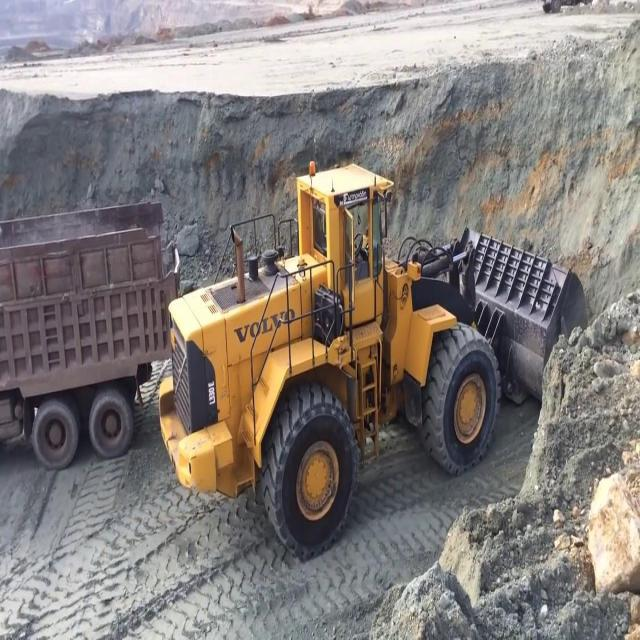Dump Truck: (0, 196, 182, 471)
Loader: (155, 158, 589, 562)
